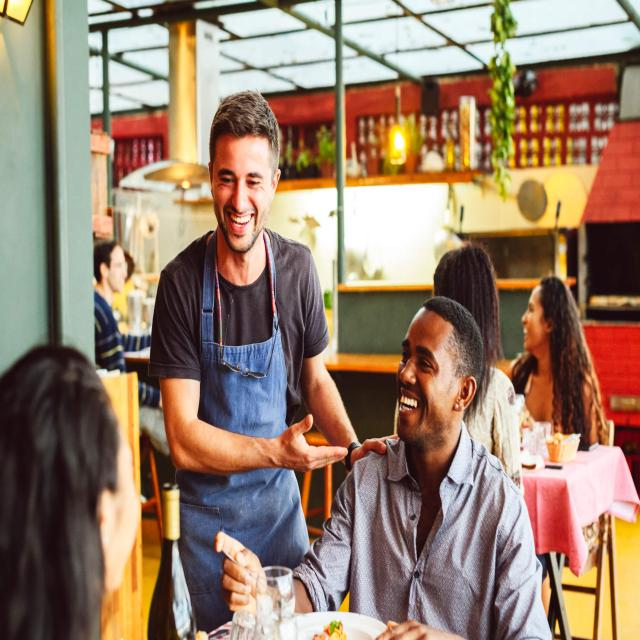person: (129, 91, 369, 610), (346, 279, 530, 640), (1, 329, 148, 640), (434, 202, 532, 503), (509, 268, 626, 444), (96, 243, 150, 382)
